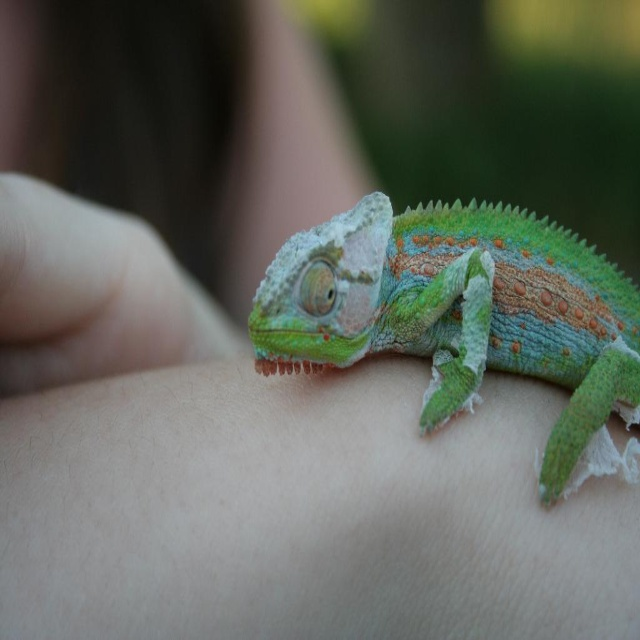Lizard: (249, 189, 638, 501)
